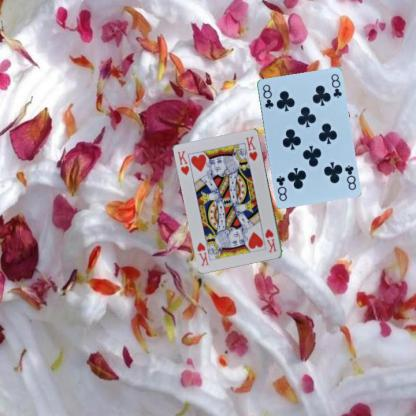8c: (342, 162, 357, 192), (260, 81, 274, 110)
Kh: (175, 148, 191, 177), (262, 226, 278, 254)
